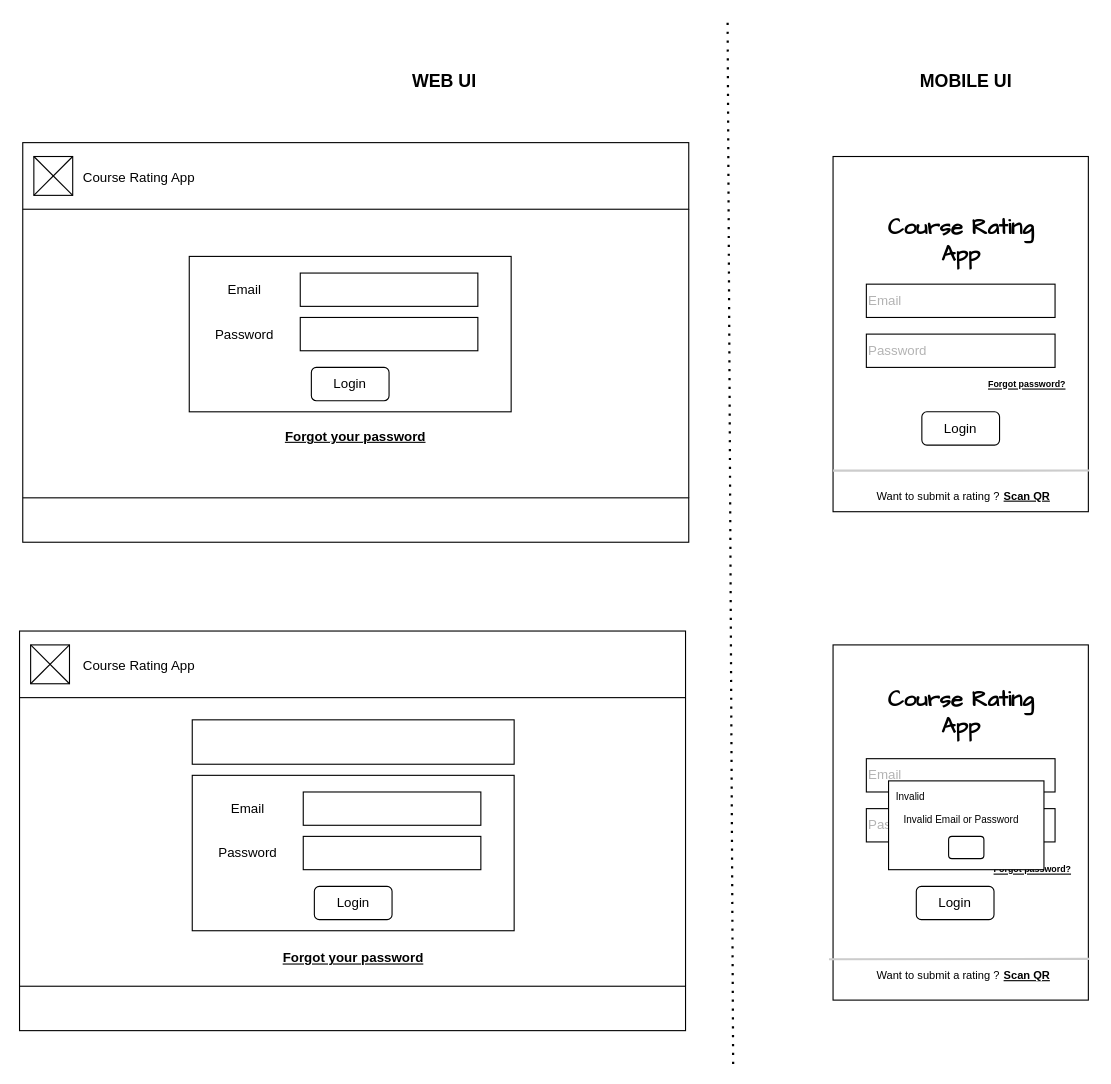
The diagram is 1111 pixels wide and 1084 high, and some of its shapes have lost their labels. Each missing label, with the box of its shape:
Incorrect username or password: (191, 719, 514, 764)
OK: (947, 835, 984, 859)
